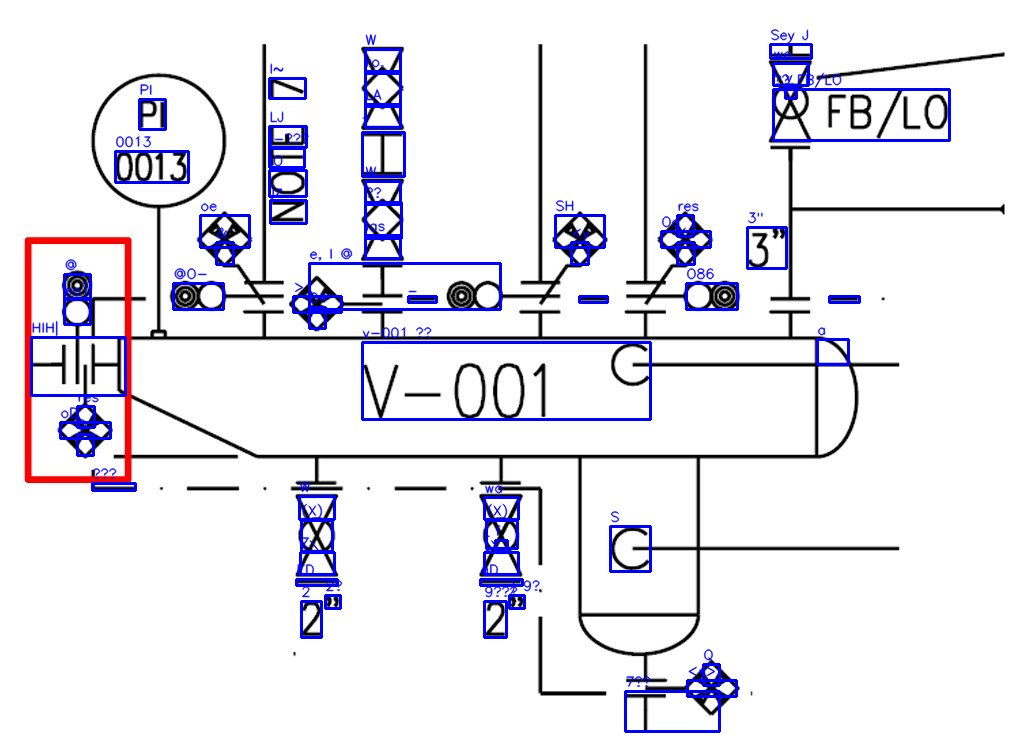Instrumento: (86, 70, 228, 210)
Vaso: (113, 336, 867, 463)
Válvula: (285, 488, 347, 591), (759, 52, 820, 155), (472, 485, 530, 589), (352, 169, 409, 267), (356, 42, 408, 135)
